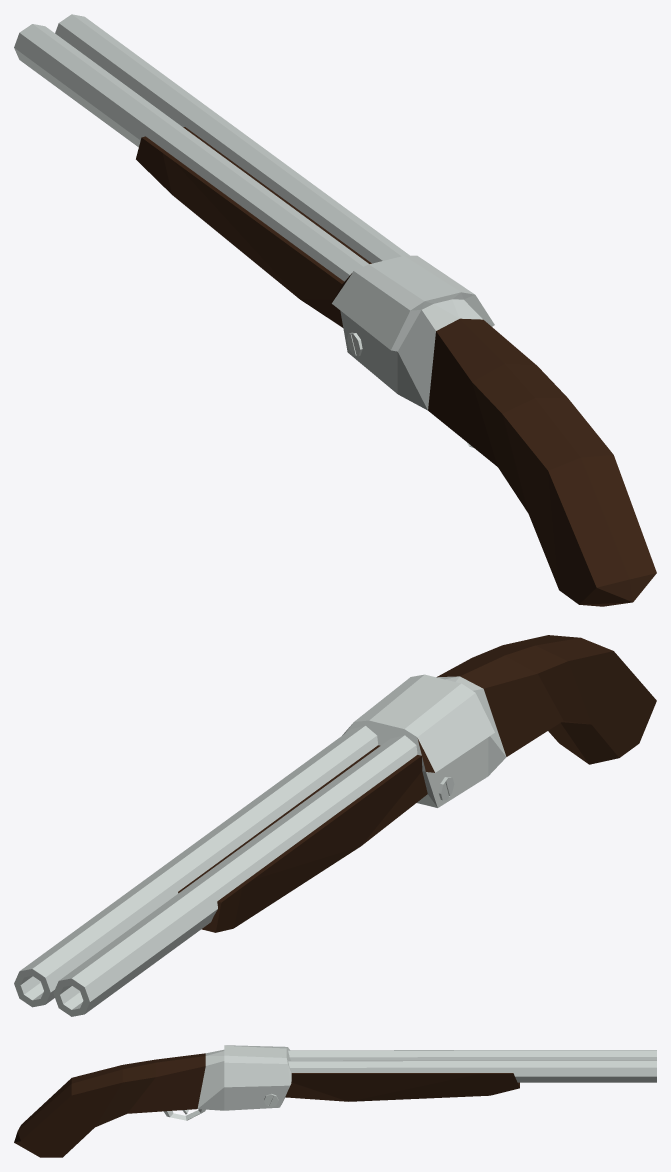
Rendered from Shotgun.fbx.
The picture shows the model from 3 angles, top to bottom: view 1: azimuth 30°, elevation 25°; view 2: azimuth 150°, elevation 25°; view 3: azimuth 270°, elevation 25°; orthographic projection. The views are drawn at different scales.
Parts seen in each view (by area): view 1: Cube.167; view 2: Cube.167; view 3: Cube.167.
Boxes of the visible parts, bbox=[...] form: Cube.167: bbox=[14, 14, 656, 606]; Cube.167: bbox=[14, 635, 656, 1016]; Cube.167: bbox=[14, 1045, 656, 1157].
Size of the model in its own units: 107 by 188 by 1030.
